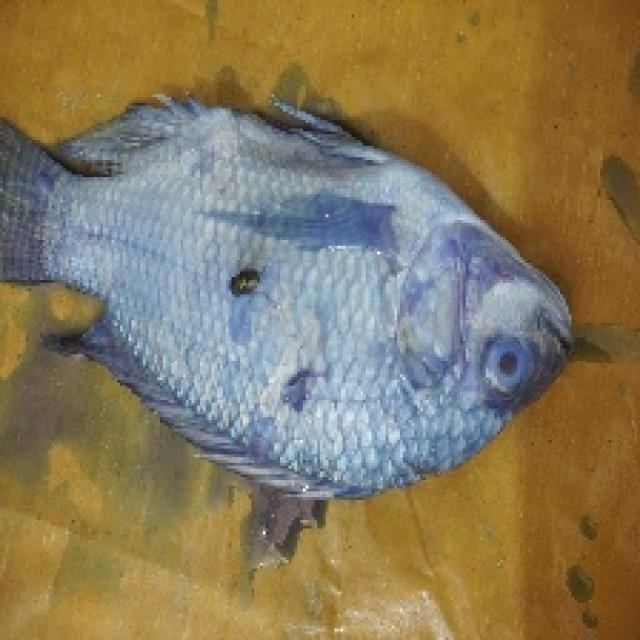Non-Fresh: (131, 132, 530, 463), (474, 327, 540, 399)
